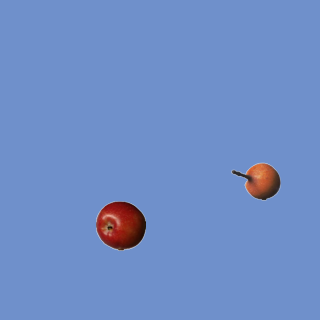Apple Braeburn: (95, 200, 145, 250)
Granadilla: (230, 156, 280, 206)
